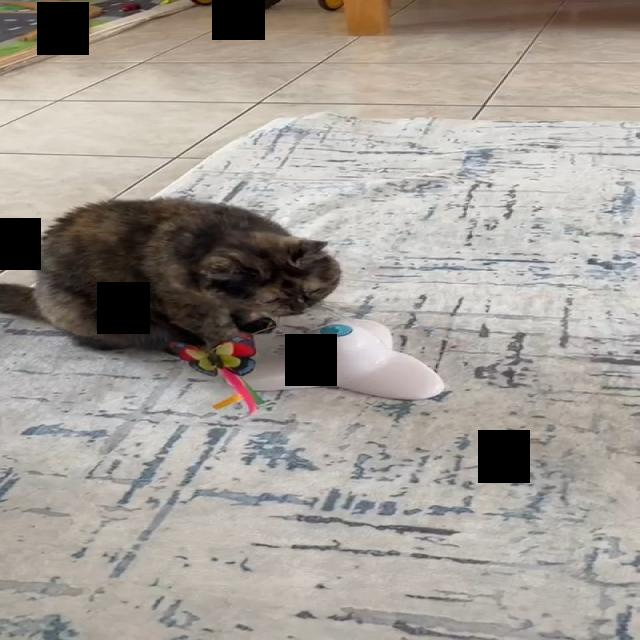authorized: (0, 197, 341, 354)
